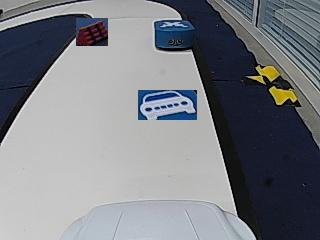prop: (154, 20, 195, 51)
